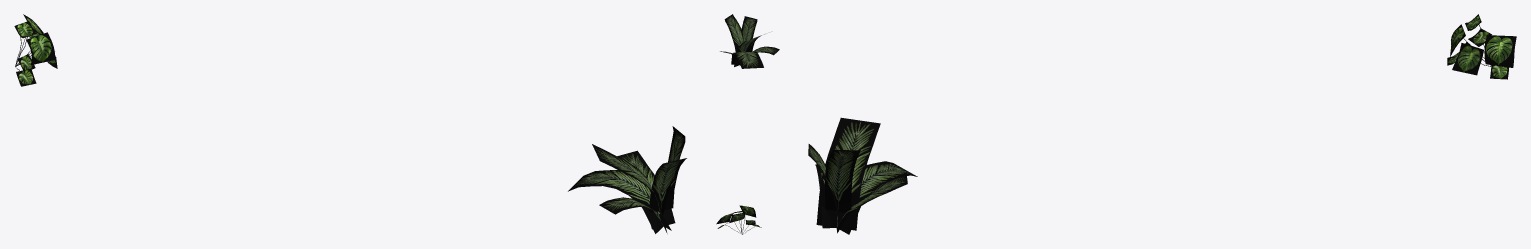
The model's file is museum_hall_plant_alpha.glb.
3 renders of one model, left to right at view 1: azimuth 30°, elevation 25°; view 2: azimuth 150°, elevation 25°; view 3: azimuth 270°, elevation 25°, orthographic. The views are drawn at different scales.
Parts seen in each view (by area): view 1: plants; view 2: plants; view 3: plants.
Part boxes in pixels (left/top/right/bottom): plants: left=14, top=14, right=686, bottom=233; plants: left=716, top=14, right=779, bottom=234; plants: left=808, top=14, right=1516, bottom=234.
Bounding box in the file's own units: 14.95 × 3.43 × 25.08.
Materials: 2 (2 with a texture image).
